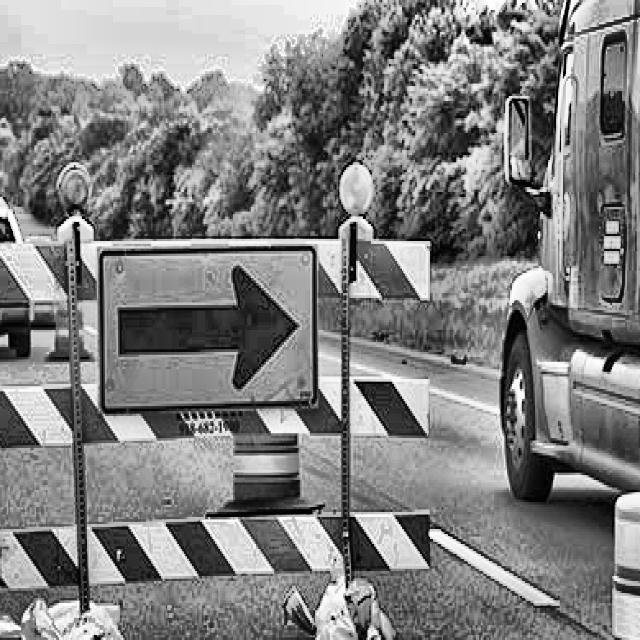dump_truck: (443, 0, 640, 640)
light_vehicle: (0, 172, 49, 362)
